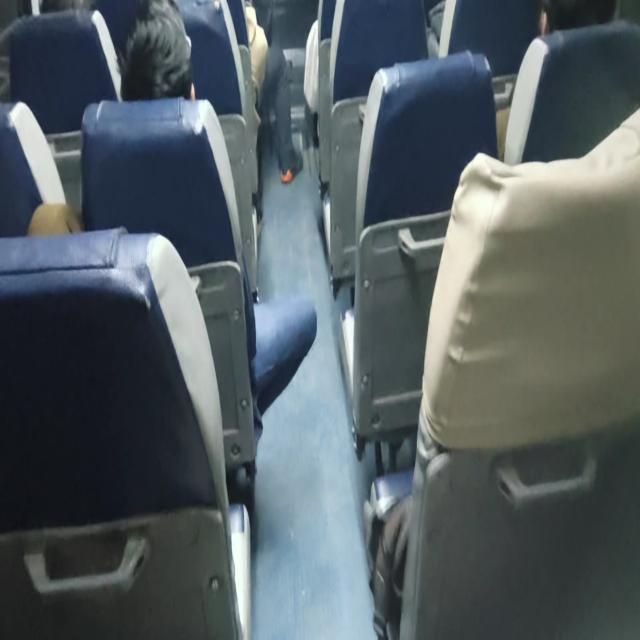person: (125, 21, 205, 122), (516, 0, 629, 50)
